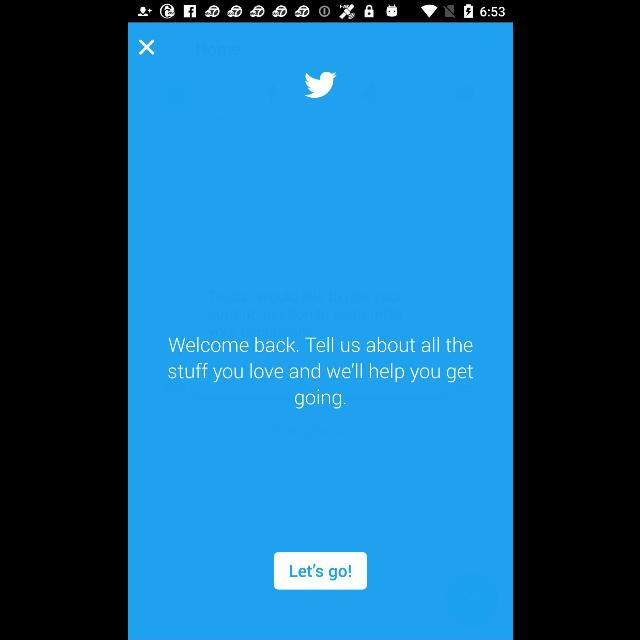icon: (303, 71, 337, 99), (138, 40, 154, 54)
text: (167, 337, 473, 409)
textbutton: (274, 552, 366, 590)
uppertaskbar: (128, 1, 512, 23)
